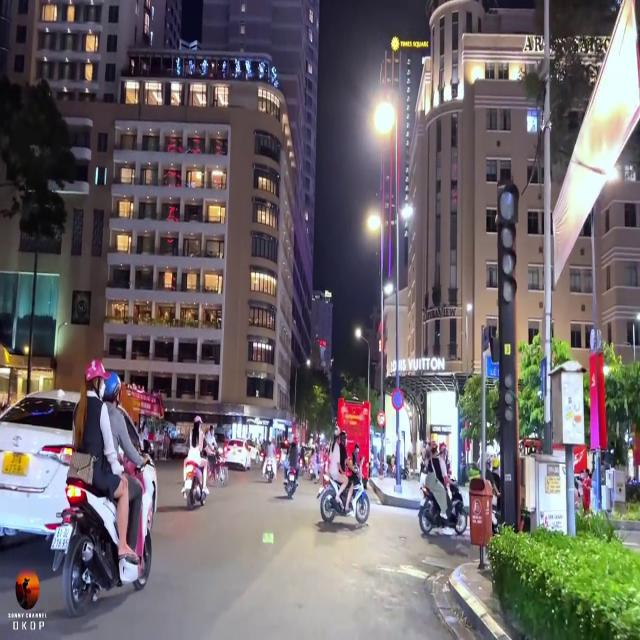bien_trang: (49, 523, 73, 550)
bien_vang: (1, 450, 31, 479)
